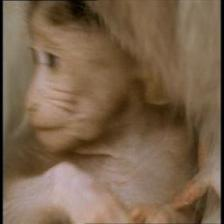monkey: (24, 0, 124, 155)
